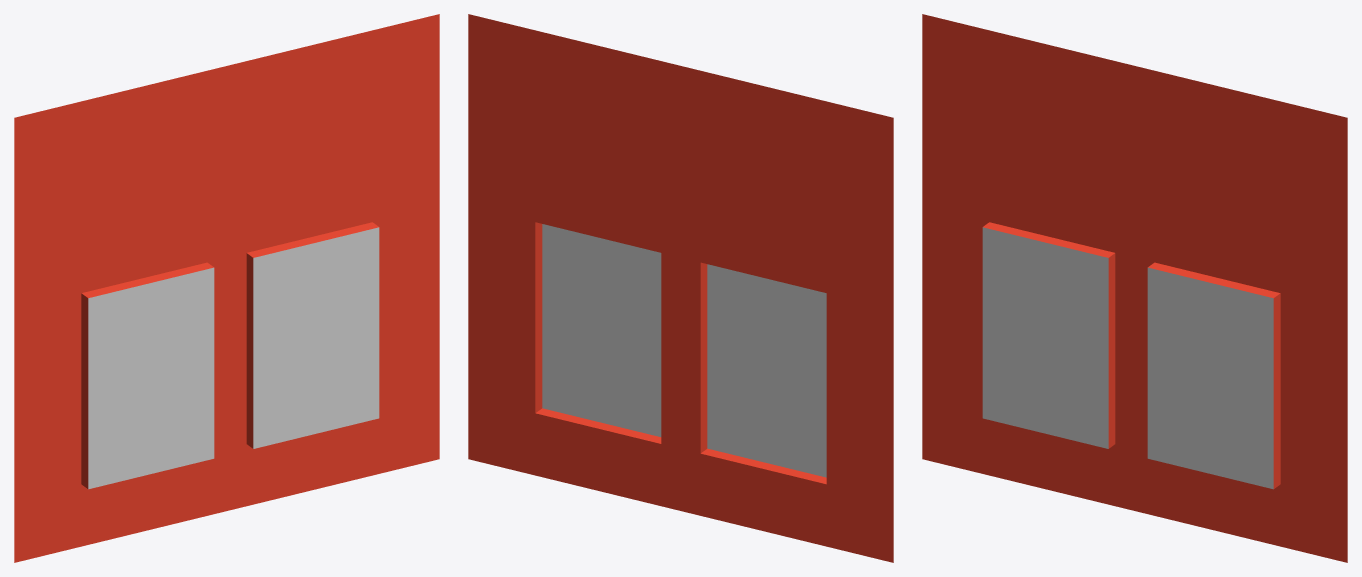
Rendered from windowWall.fbx.
The picture shows the model from 3 angles, left to right: view 1: azimuth 30°, elevation 25°; view 2: azimuth 150°, elevation 25°; view 3: azimuth 330°, elevation 25°; orthographic projection.
Visible parts, largest first — view 1: WindowWall; view 2: WindowWall; view 3: WindowWall.
Part boxes in pixels (bbox=[...]): WindowWall: bbox=[14, 14, 439, 562]; WindowWall: bbox=[468, 14, 893, 562]; WindowWall: bbox=[922, 14, 1347, 562].
Size of the model in its own units: 200 by 200 by 5.61.
